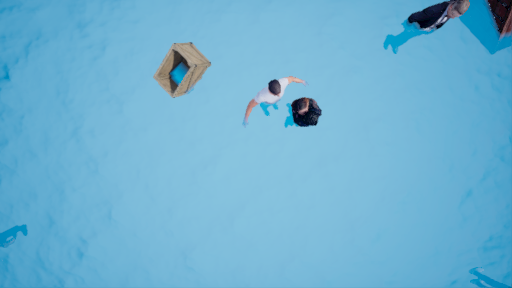person: (247, 75, 325, 136), (387, 3, 461, 61)
